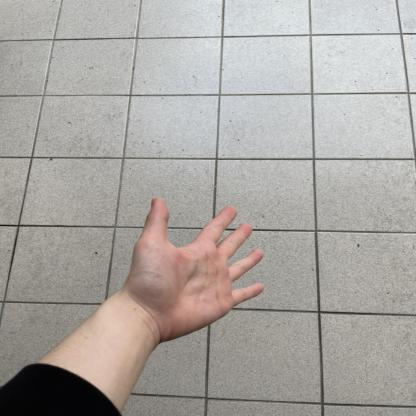bare_hand: (112, 184, 278, 343)
